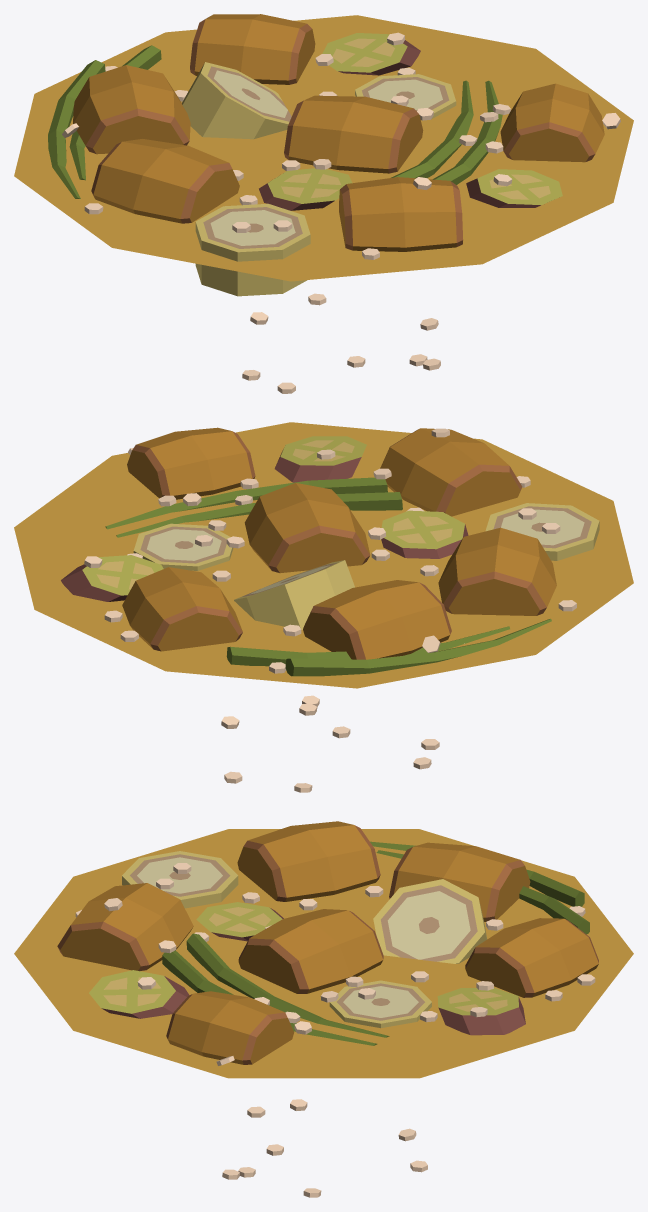
The model's file is Traditional karekare.fbx.
The picture shows the model from 3 angles, top to bottom: view 1: azimuth 30°, elevation 25°; view 2: azimuth 150°, elevation 25°; view 3: azimuth 270°, elevation 25°; orthographic projection. The views are drawn at different scales.
Parts seen in each view (by area): view 1: Traditional Kare-Kare; view 2: Traditional Kare-Kare; view 3: Traditional Kare-Kare.
Boxes of the visible parts, x1=… form: Traditional Kare-Kare: x1=14, y1=14, x2=633, y2=393; Traditional Kare-Kare: x1=14, y1=422, x2=633, y2=792; Traditional Kare-Kare: x1=14, y1=821, x2=633, y2=1197.
Size of the model in its own units: 94.45 by 43 by 99.31.
